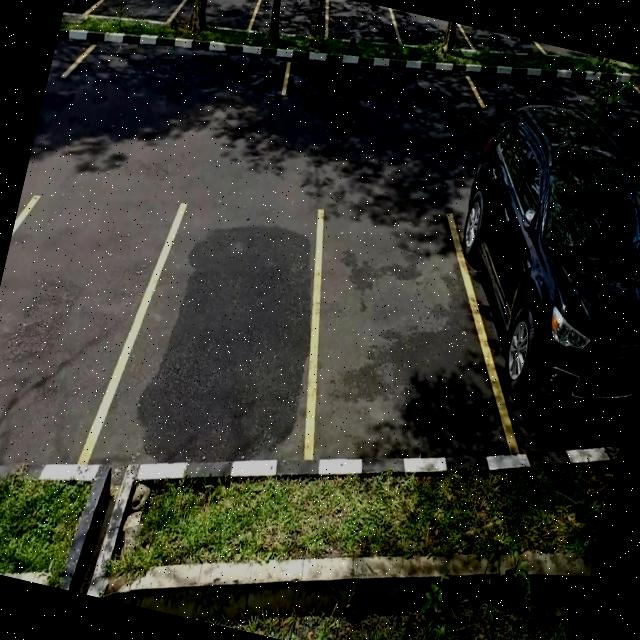empty: (118, 190, 340, 470), (276, 192, 487, 479), (0, 195, 164, 459), (68, 18, 292, 140), (278, 31, 492, 148)
occupied: (421, 117, 640, 448)
